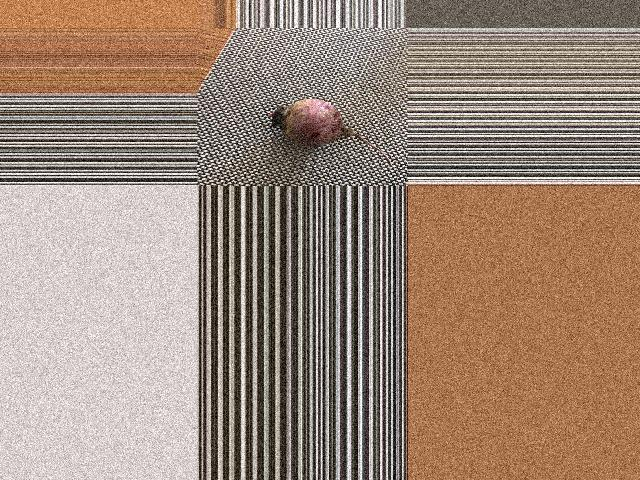beet: (267, 100, 392, 166)
